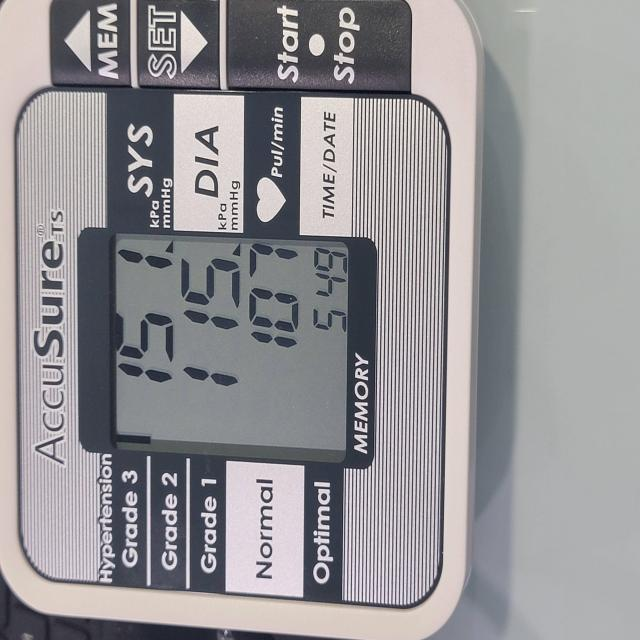bp: (11, 0, 480, 640)
